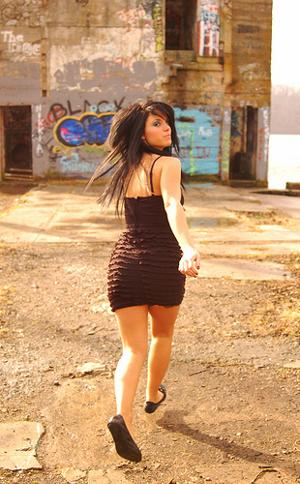person: (107, 99, 202, 463)
